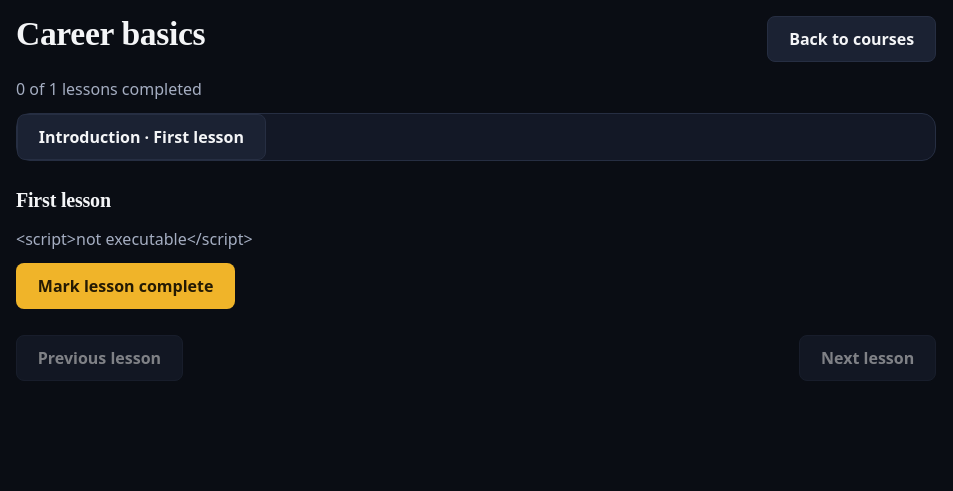
Test: reads lessons safely and only shows completion after persistence succeeds
Check: the text "<script>not executable</script>" is shown, box [16,228,253,250]
Click the button "Mark lesson complete". click: (126, 286)
box: [16,263,235,309]
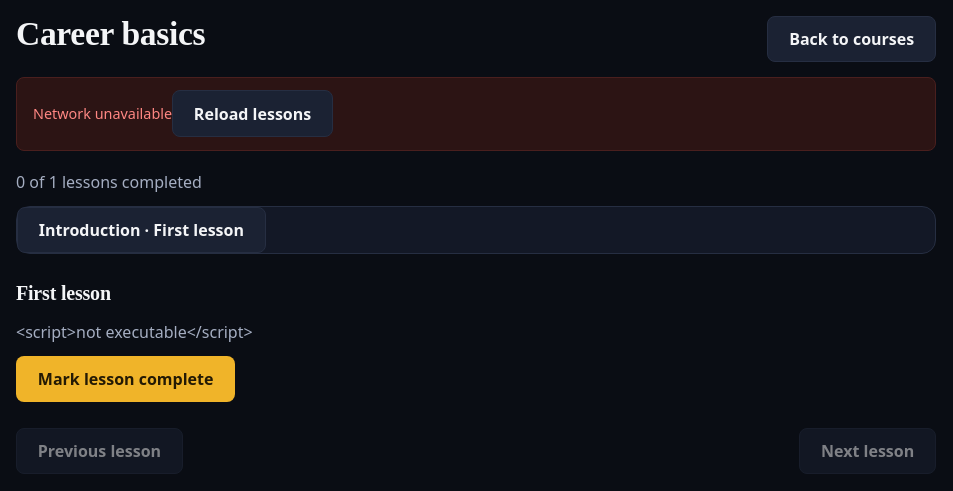
Check: the button "Lesson completed" is not shown
Check: the message "Network unavailable Reload lessons" is shown, box [16,77,936,151]
Click the button "Mark lesson complete". click: (126, 379)
box: [16,356,235,402]
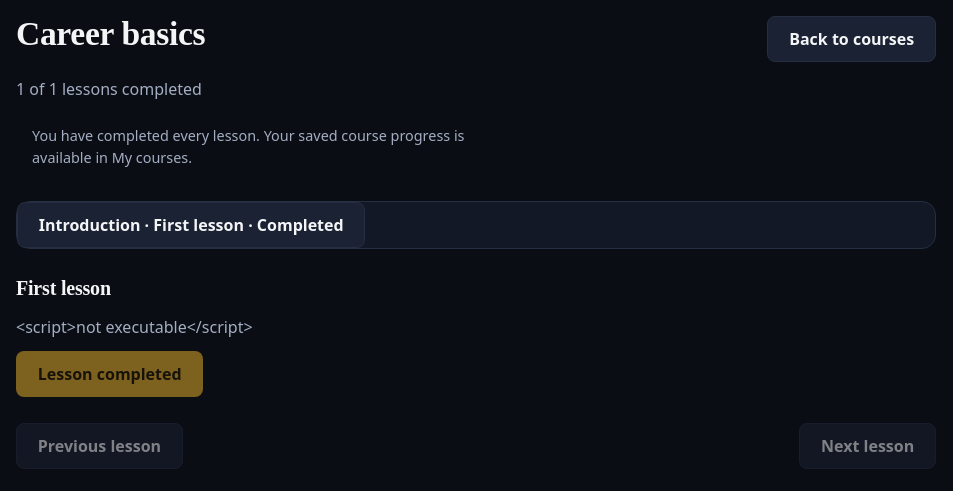
Check: the button "Lesson completed" is shown, box [16,351,203,397]
Check: the text "1 of 1 lessons completed" is shown, box [16,78,202,100]
